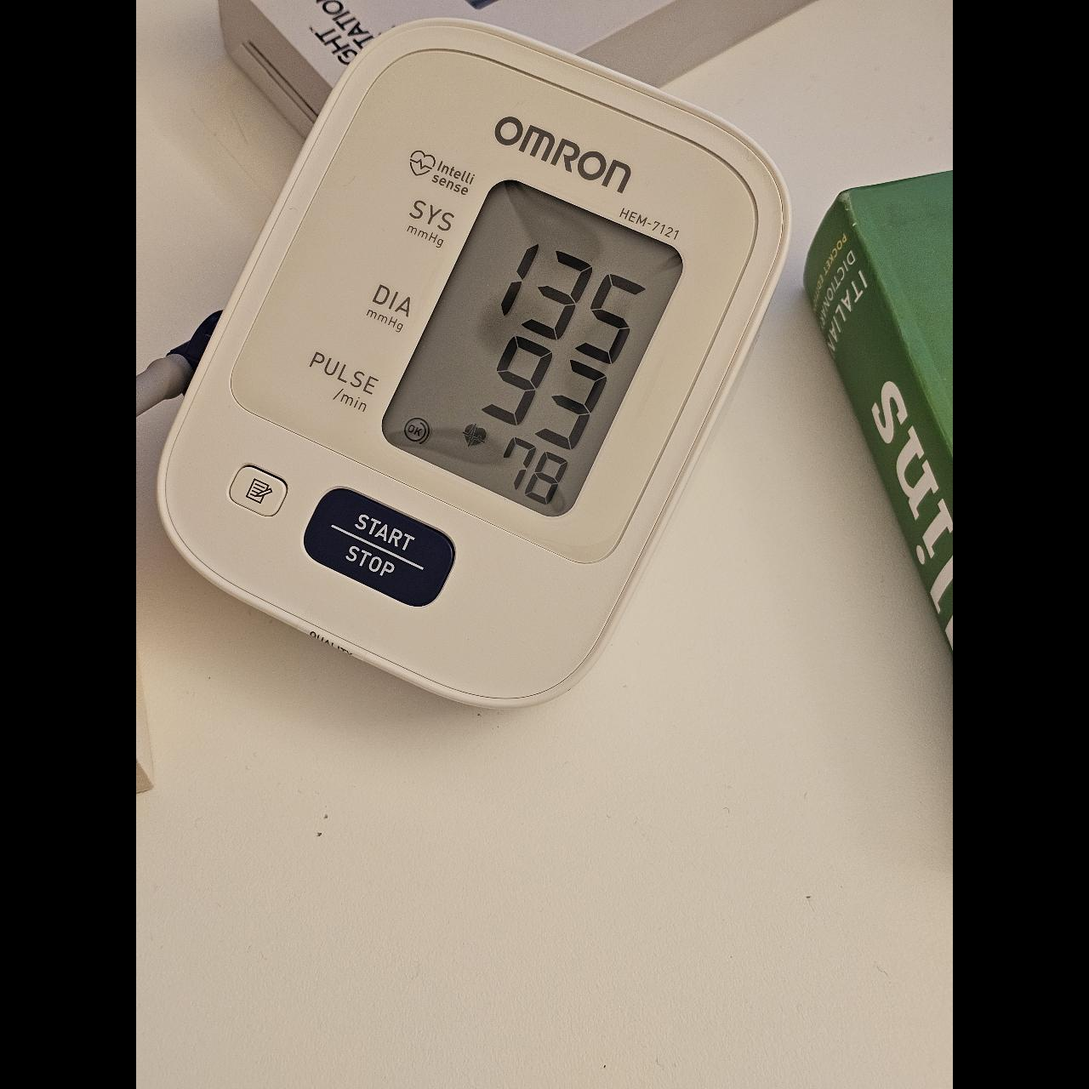lcd display: (380, 177, 685, 520)
